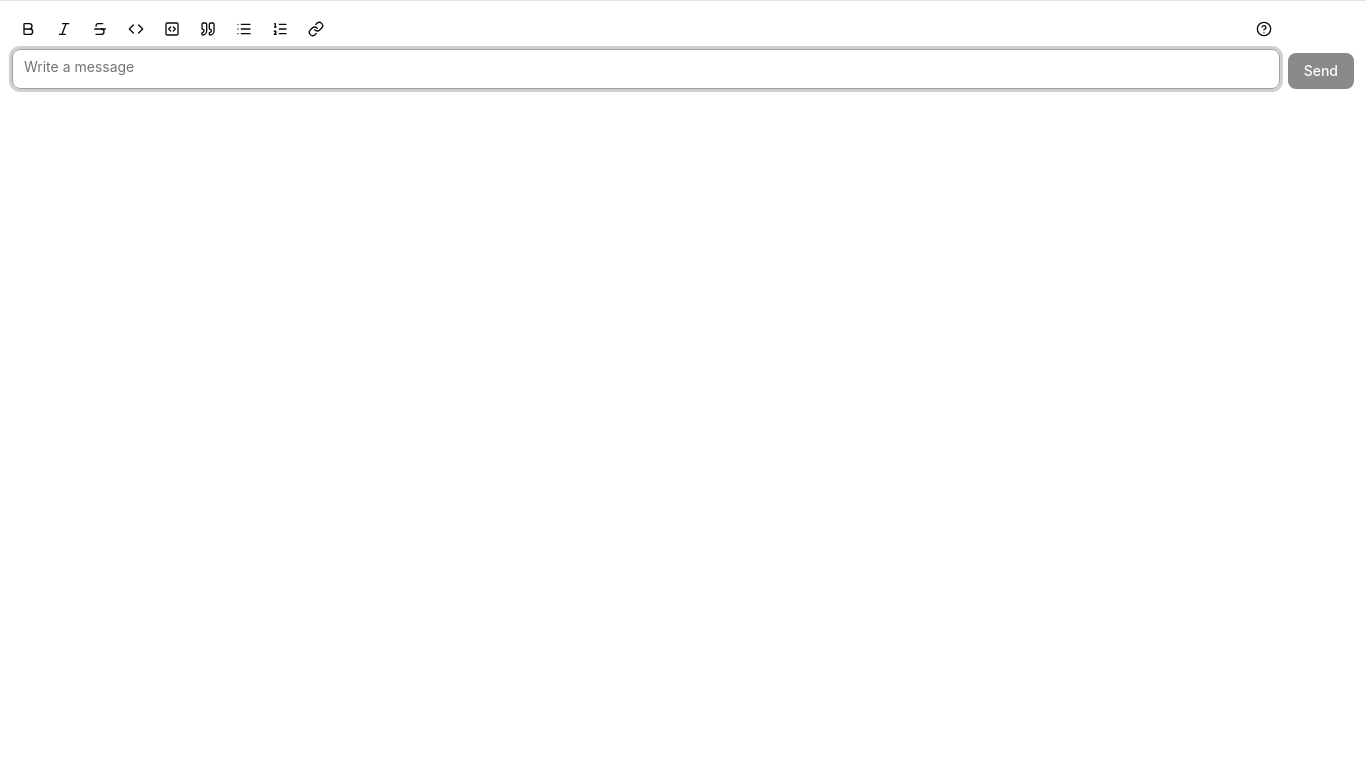
Scenario: links the selection, prefilled with its text
Type "read the docs" into the field named "Message".
click(646, 69); type("read the docs")  # box [12, 49, 1280, 89]
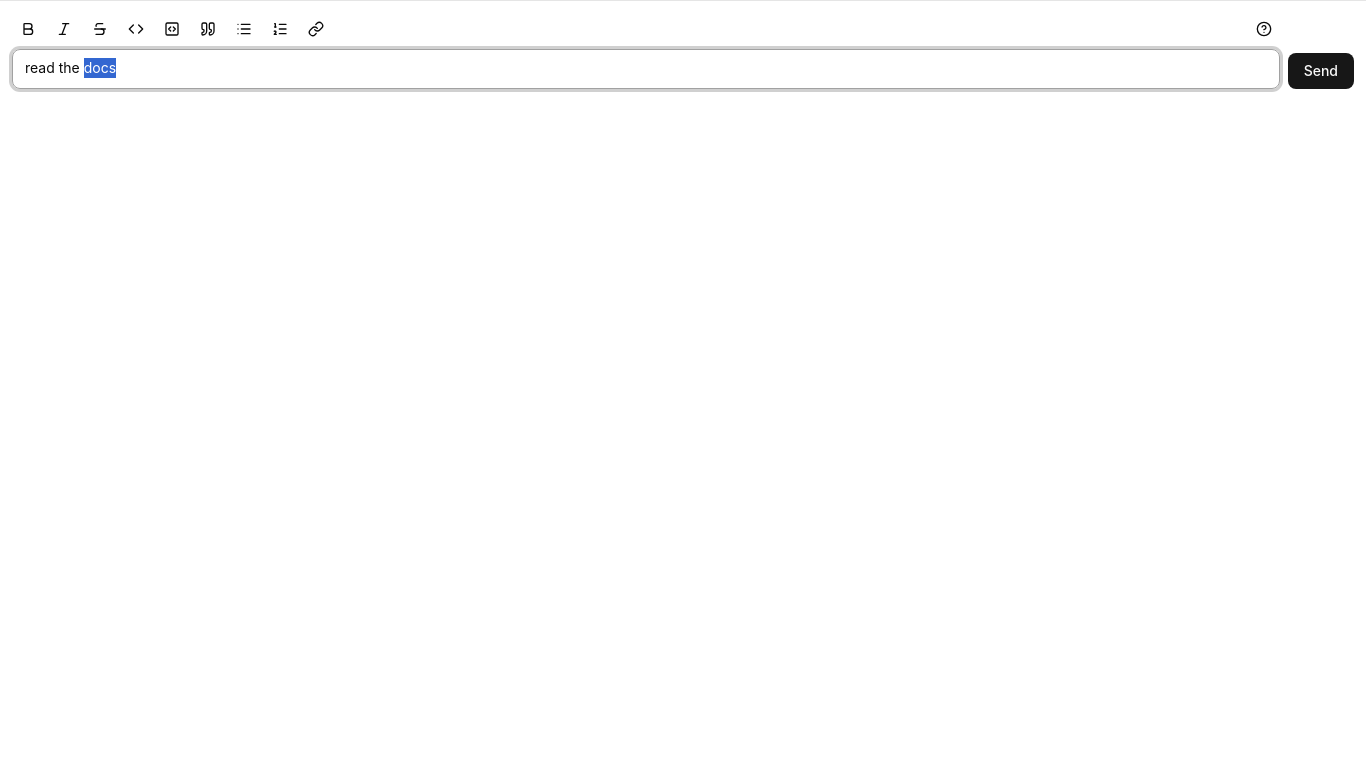
Click the button named "Link".
click(316, 29)  # box [300, 13, 332, 45]
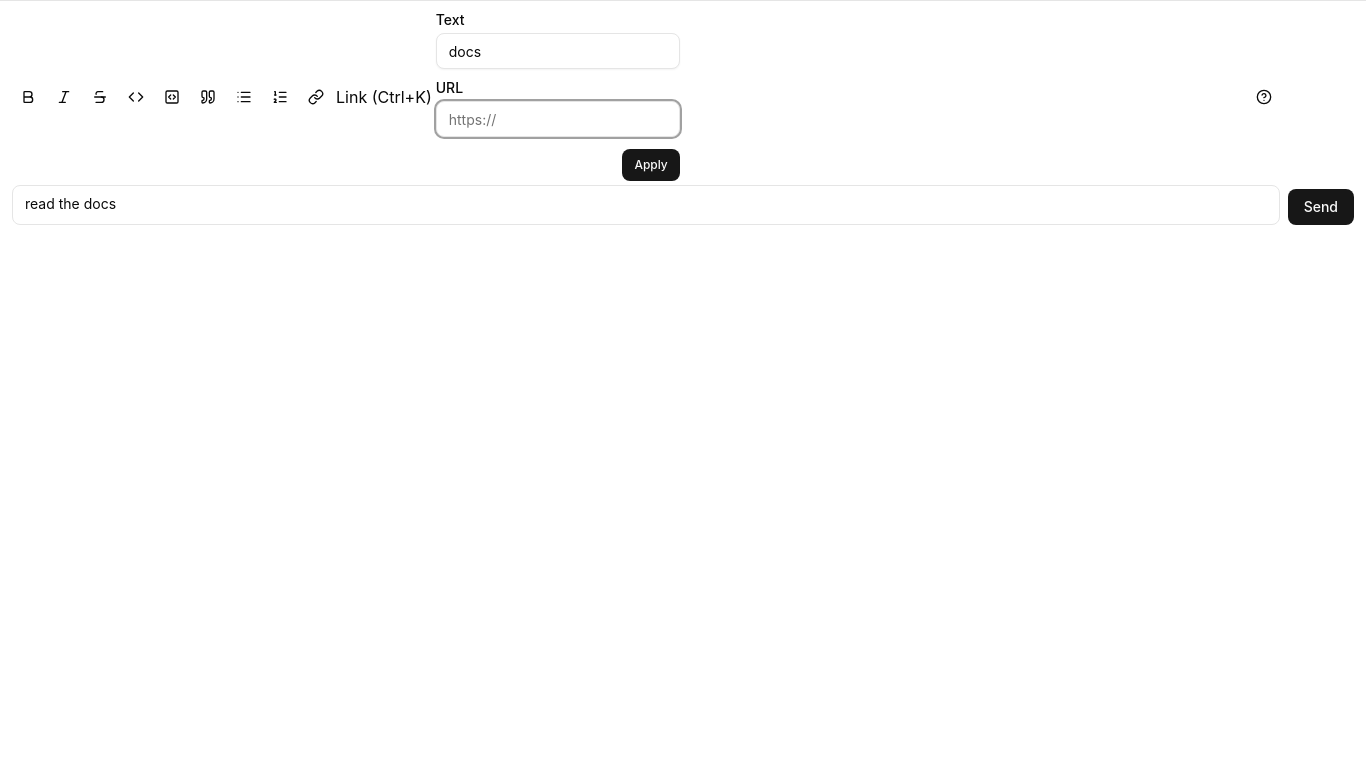
Expected: the field labelled "Text" holds "docs", [436, 33, 680, 69]
Expected: the field labelled "URL" is empty
Type "https://example.test/docs" into the field labelled "URL".
click(558, 119); type("https://example.test/docs")  # box [436, 101, 680, 137]
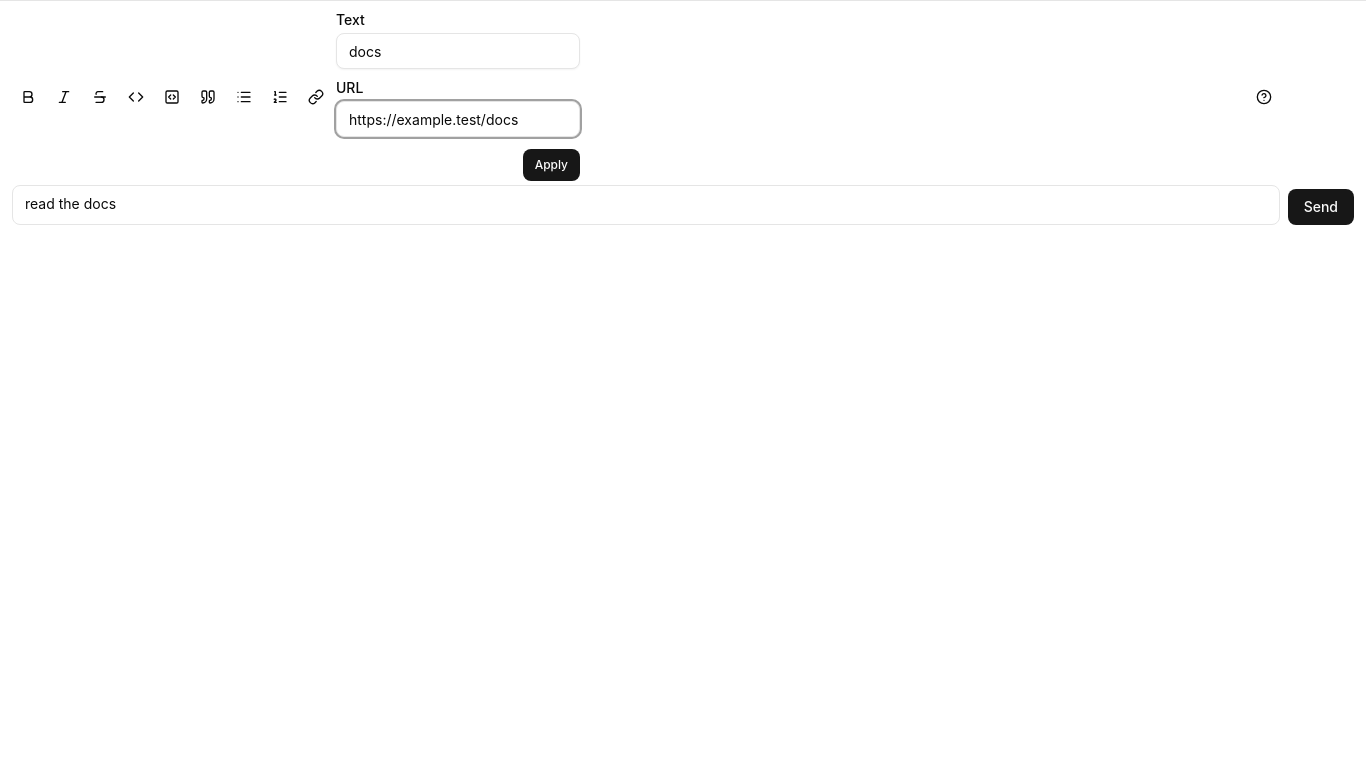
Click the button "Apply".
click(551, 165)  # box [523, 149, 580, 181]
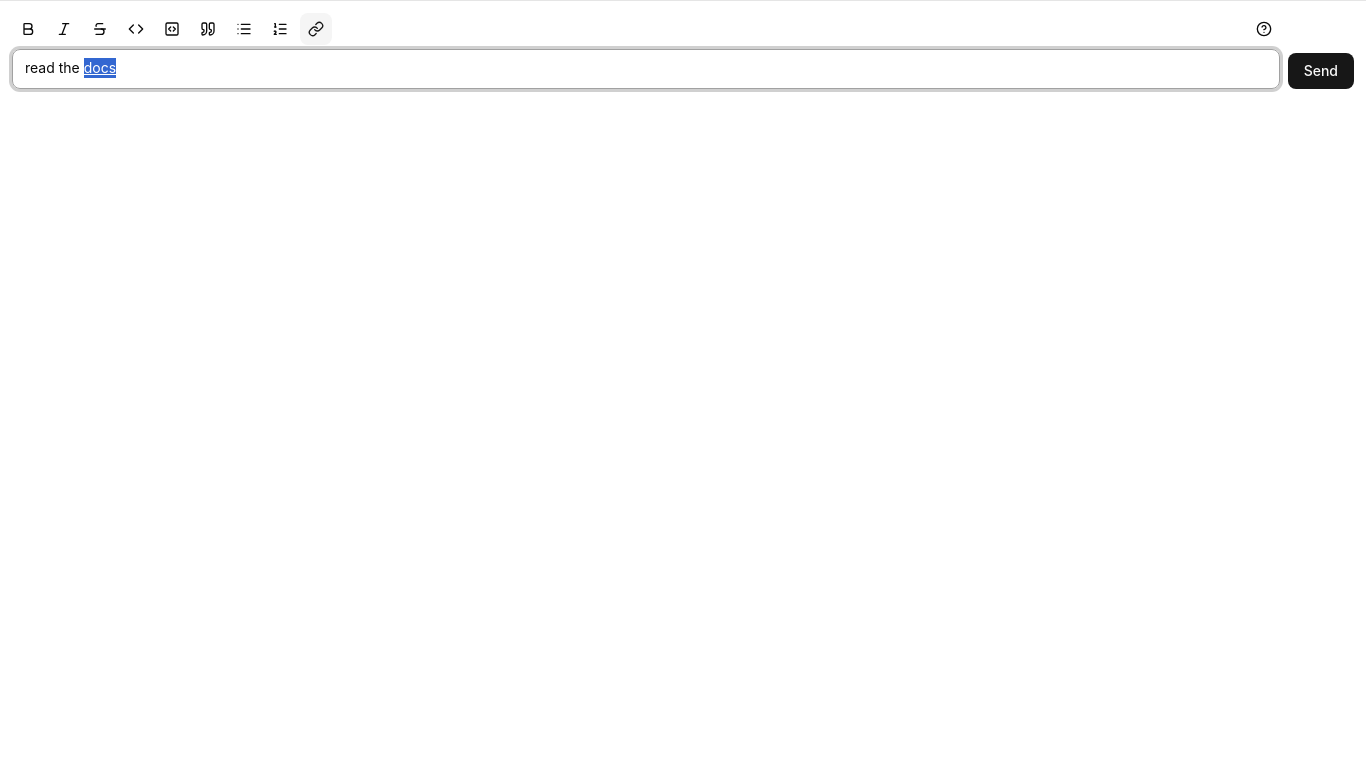
Expected: the link "docs" is shown, [84, 59, 116, 76]
Expected: the label labelled "URL" is gone
